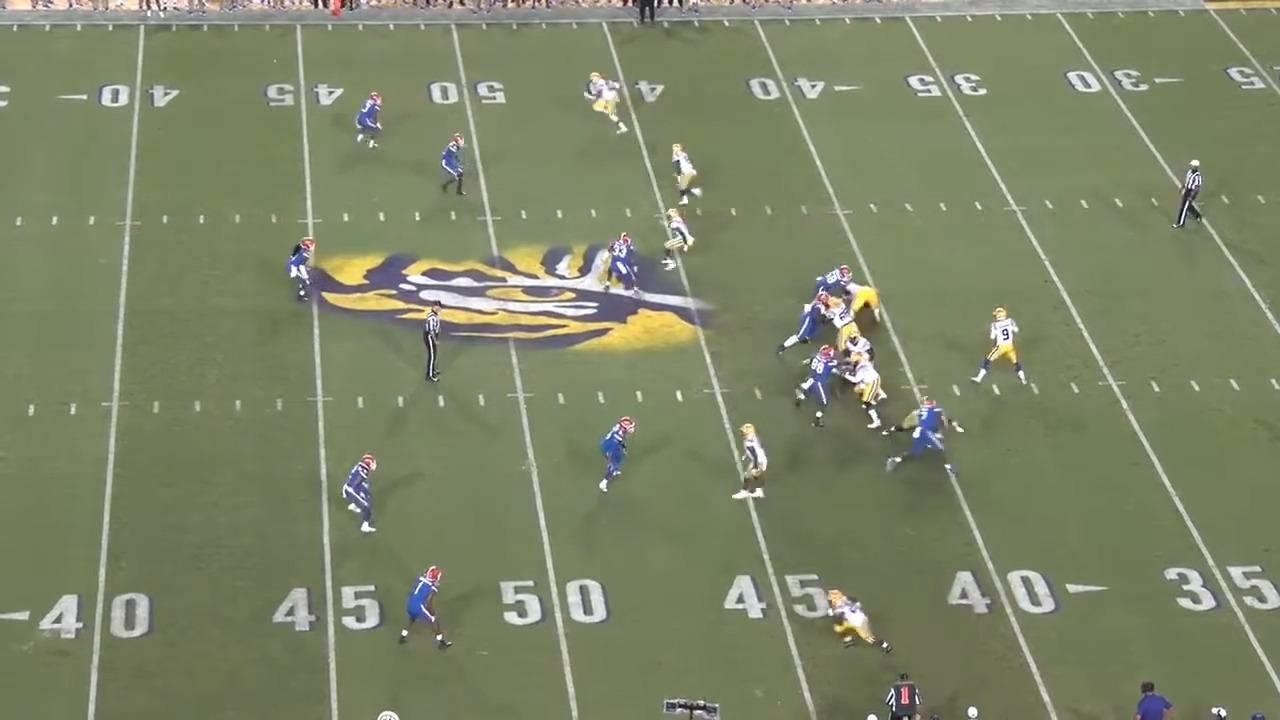defense: (885, 396, 967, 479), (396, 566, 451, 656), (798, 346, 846, 422), (596, 416, 640, 496), (777, 290, 830, 353), (343, 453, 380, 538), (596, 231, 638, 300), (284, 236, 319, 310), (436, 132, 469, 199), (353, 91, 387, 151), (816, 263, 851, 299)
oline: (845, 351, 889, 433), (838, 269, 882, 331), (888, 407, 970, 433), (824, 295, 861, 337), (842, 329, 875, 360)
qb: (971, 302, 1031, 387)
ref: (416, 303, 451, 389), (1173, 156, 1212, 233), (885, 671, 930, 719), (631, 0, 663, 28)
skill: (821, 587, 894, 658), (726, 421, 771, 508), (588, 68, 632, 137), (669, 139, 710, 209), (657, 208, 696, 274)
